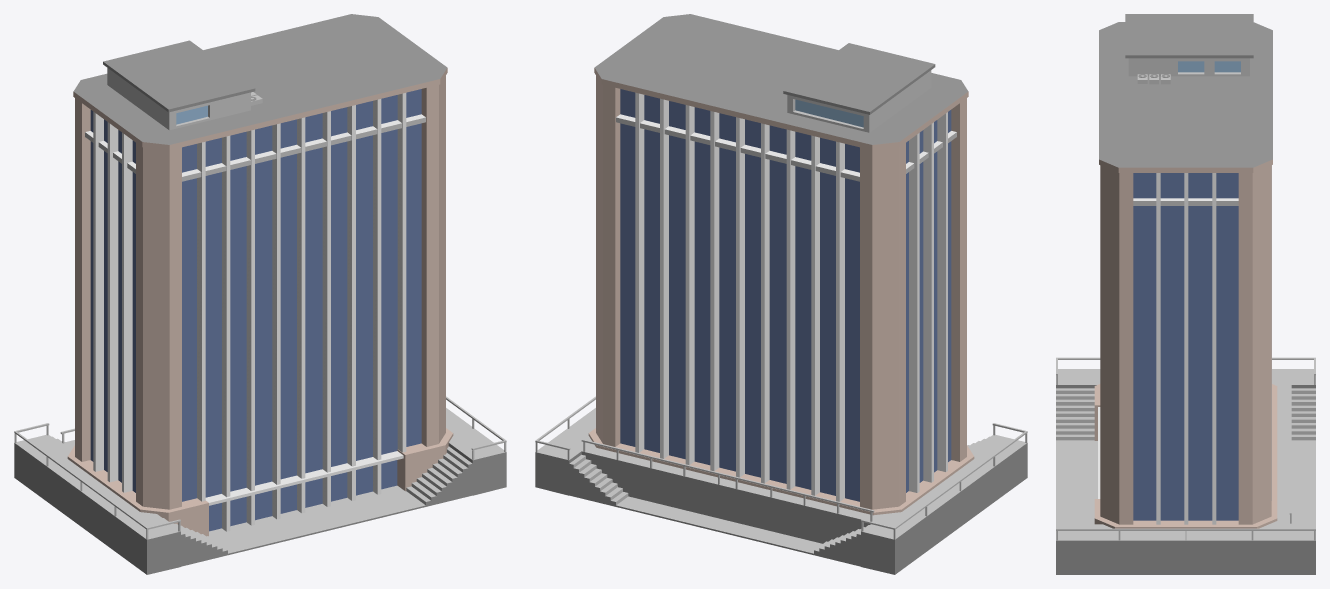
The model's file is business_center_010.glb.
The picture shows the model from 3 angles, left to right: view 1: azimuth 30°, elevation 25°; view 2: azimuth 150°, elevation 25°; view 3: azimuth 270°, elevation 25°; orthographic projection. The views are drawn at different scales.
Visible parts, largest first — view 1: business_center_010; view 2: business_center_010; view 3: business_center_010.
Boxes of the visible parts, box(x1,y1,x2,y2) form: business_center_010: box(14, 14, 506, 574); business_center_010: box(535, 14, 1027, 574); business_center_010: box(1056, 14, 1315, 574).
Bounding box in the file's own units: 23.38 × 26.71 × 14.95.
1 material, 1 textured.
